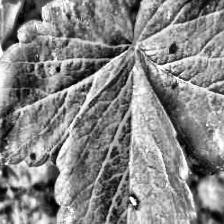Leaf Spot: (53, 45, 198, 224), (0, 0, 136, 168), (134, 0, 224, 180), (197, 172, 224, 212)
